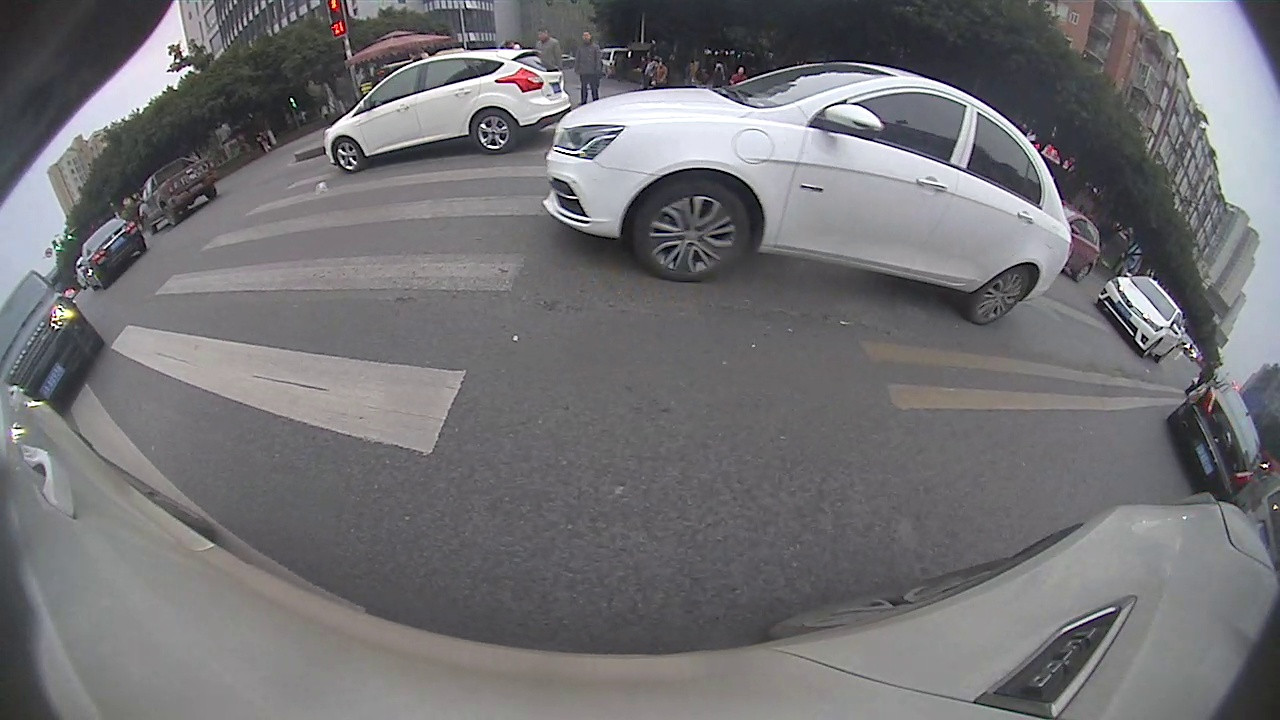car: (540, 60, 1075, 329), (323, 46, 572, 175), (3, 271, 109, 415), (1165, 380, 1261, 505), (1095, 269, 1183, 365), (136, 158, 223, 234), (79, 220, 145, 291)
front: (627, 173, 754, 284), (331, 137, 363, 176)
person: (582, 31, 601, 104)
rear: (968, 266, 1033, 327), (470, 106, 522, 156)
